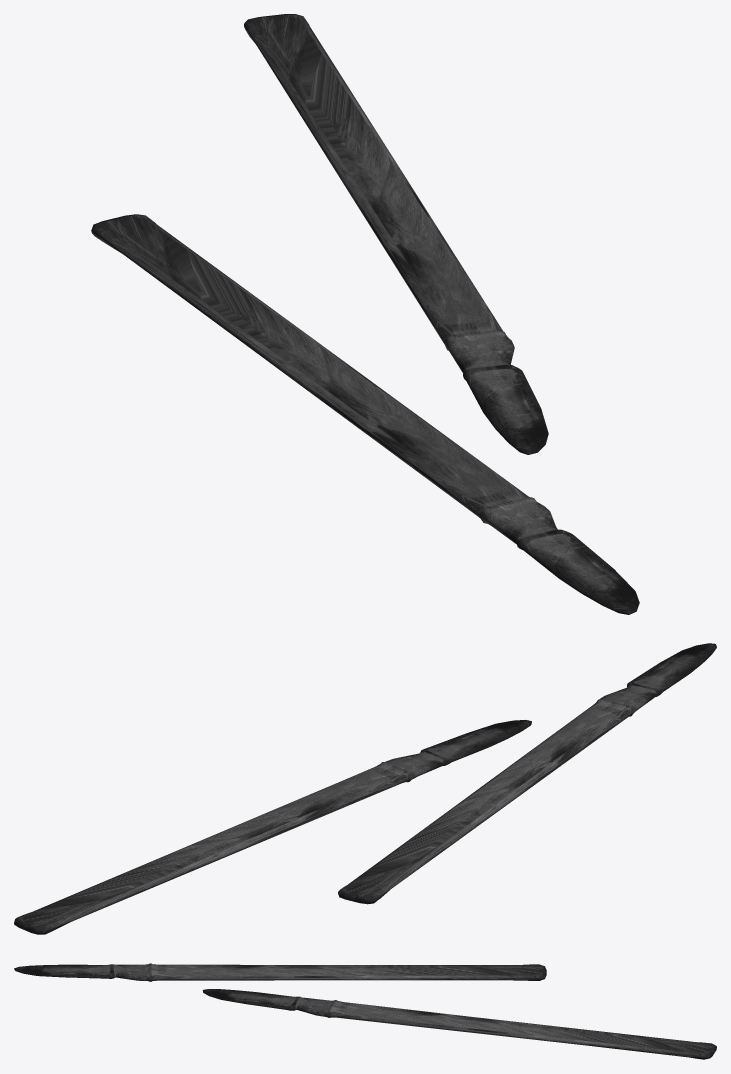
File: Medical Knife.fbx
3 views of the same model, one above another, from view 1: azimuth 30°, elevation 25°; view 2: azimuth 150°, elevation 25°; view 3: azimuth 270°, elevation 25° (orthographic). The views are drawn at different scales.
Parts seen in each view (by area): view 1: SM_Scalpel_low, SM_Scalpel_low.001; view 2: SM_Scalpel_low.001, SM_Scalpel_low; view 3: SM_Scalpel_low, SM_Scalpel_low.001.
Boxes of the visible parts, x1,y1,x2,y2 form: SM_Scalpel_low: [91, 214, 639, 614]; SM_Scalpel_low.001: [244, 14, 548, 454]; SM_Scalpel_low.001: [14, 720, 531, 934]; SM_Scalpel_low: [338, 643, 716, 904]; SM_Scalpel_low: [14, 963, 546, 981]; SM_Scalpel_low.001: [202, 989, 716, 1059].
Bounding box in the file's own units: 22.16 × 0.8634 × 70.61.
